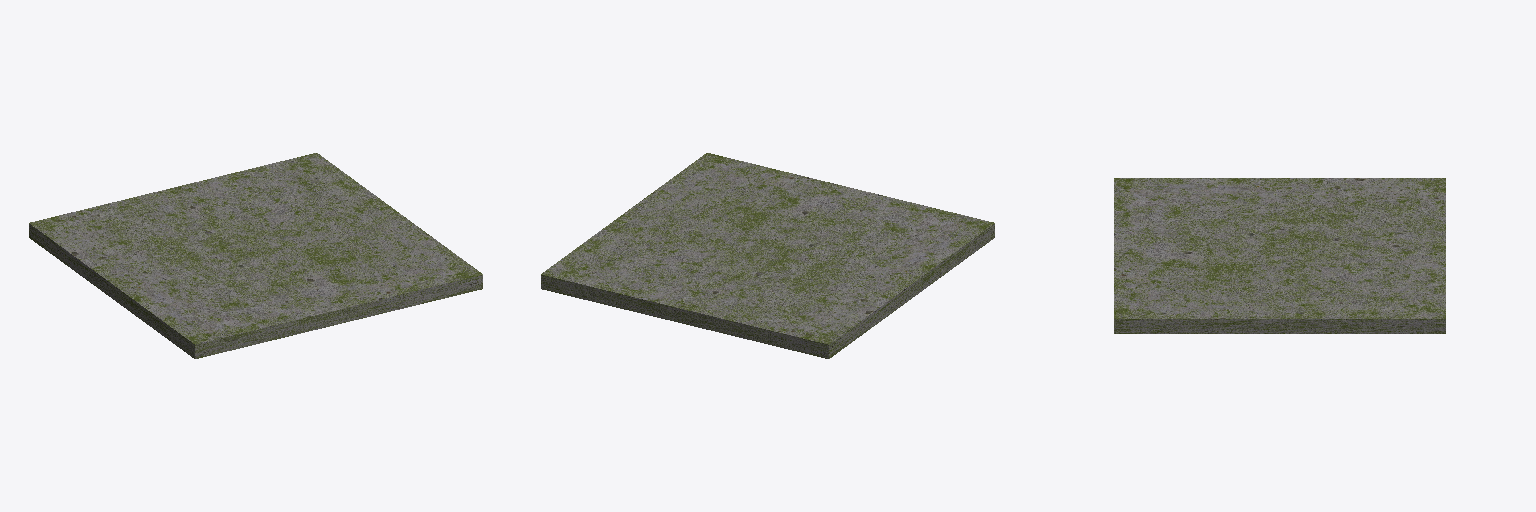
3 views of the same model, side by side, from view 1: azimuth 30°, elevation 25°; view 2: azimuth 150°, elevation 25°; view 3: azimuth 270°, elevation 25° (orthographic).
Visible parts, largest first — view 1: Cube; view 2: Cube; view 3: Cube.
Part boxes in pixels (bbox=[...]): Cube: bbox=[29, 153, 482, 358]; Cube: bbox=[541, 153, 994, 358]; Cube: bbox=[1114, 178, 1445, 333].
Size of the model in its own units: 17.33 by 0.8387 by 17.33.
1 materials, 1 textured.